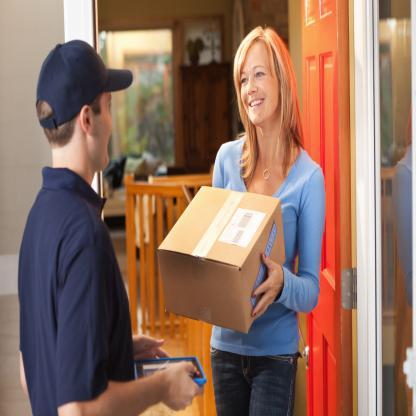package: (156, 183, 288, 338)
